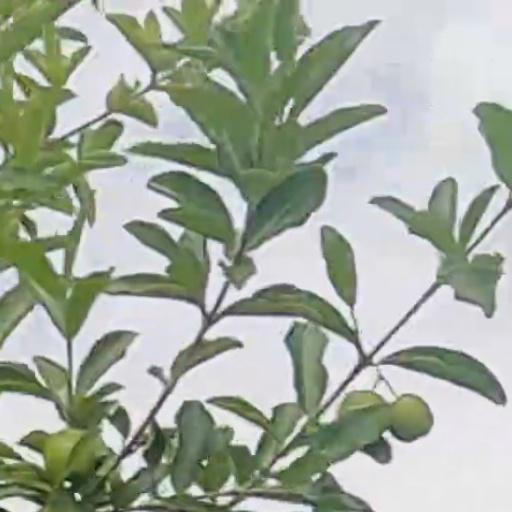acerola: (392, 394, 431, 440)
